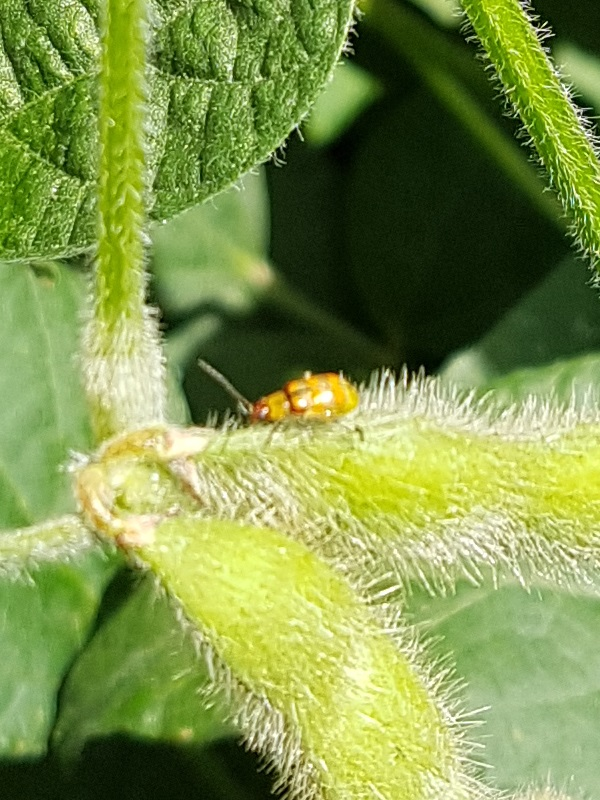Diabrotica_speciosa: (199, 336, 380, 469)
